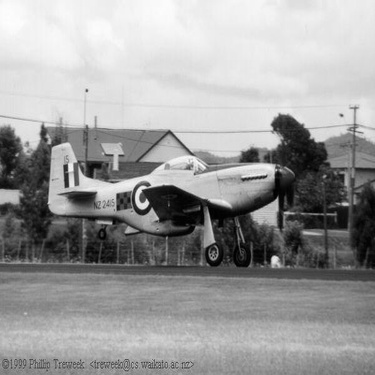airplane: (46, 142, 298, 268)
